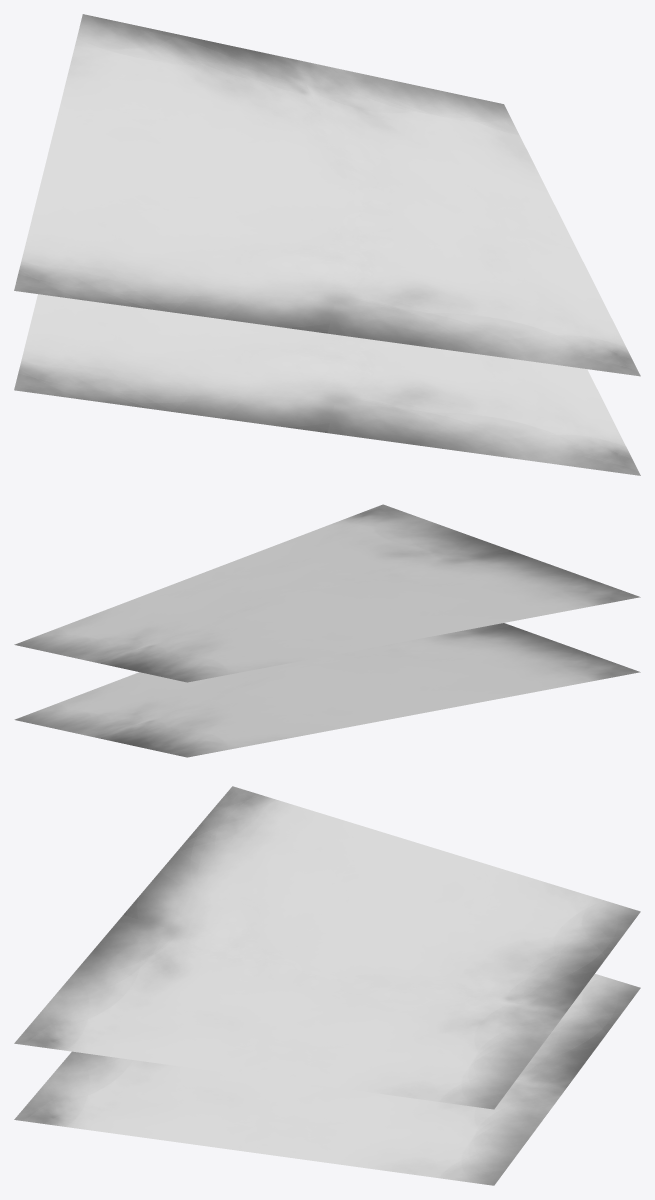
Rendered from CourseWinter_CurveFloor_4_4.fbx.
3 renders of one model, top to bottom at view 1: azimuth 30°, elevation 25°; view 2: azimuth 150°, elevation 25°; view 3: azimuth 270°, elevation 25°, orthographic. The views are drawn at different scales.
Visible parts, largest first — view 1: polySurface646; view 2: polySurface646; view 3: polySurface646.
Part boxes in pixels (box(x1,y1,x2,y2)): polySurface646: box(14, 14, 640, 475); polySurface646: box(14, 504, 640, 757); polySurface646: box(14, 786, 640, 1185).
Bounding box in the file's own units: 6.95 × 2 × 7.45.
1 material, 1 textured.
